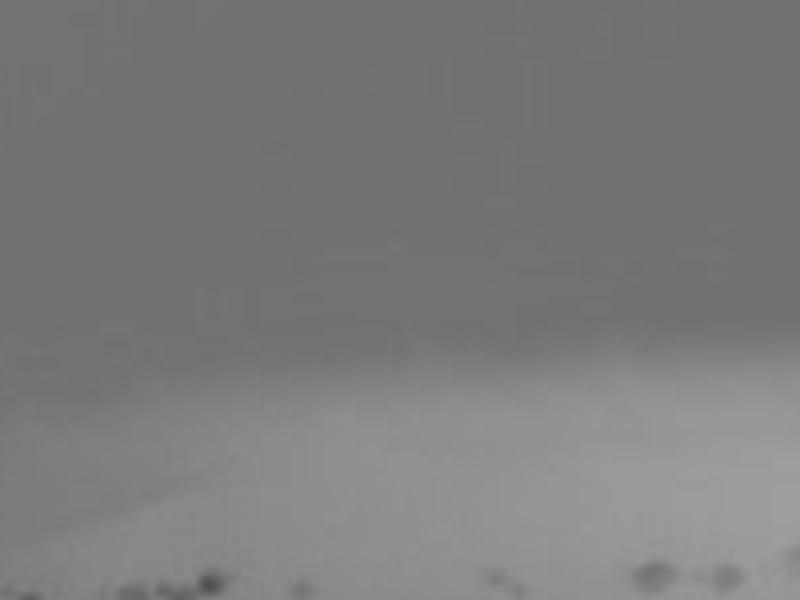defect: (633, 559, 677, 594), (709, 559, 746, 600), (198, 567, 224, 594), (116, 578, 146, 600), (785, 534, 800, 574), (167, 581, 194, 600), (289, 579, 313, 600), (689, 568, 708, 589), (486, 565, 508, 583), (508, 583, 527, 600), (152, 579, 169, 597)
